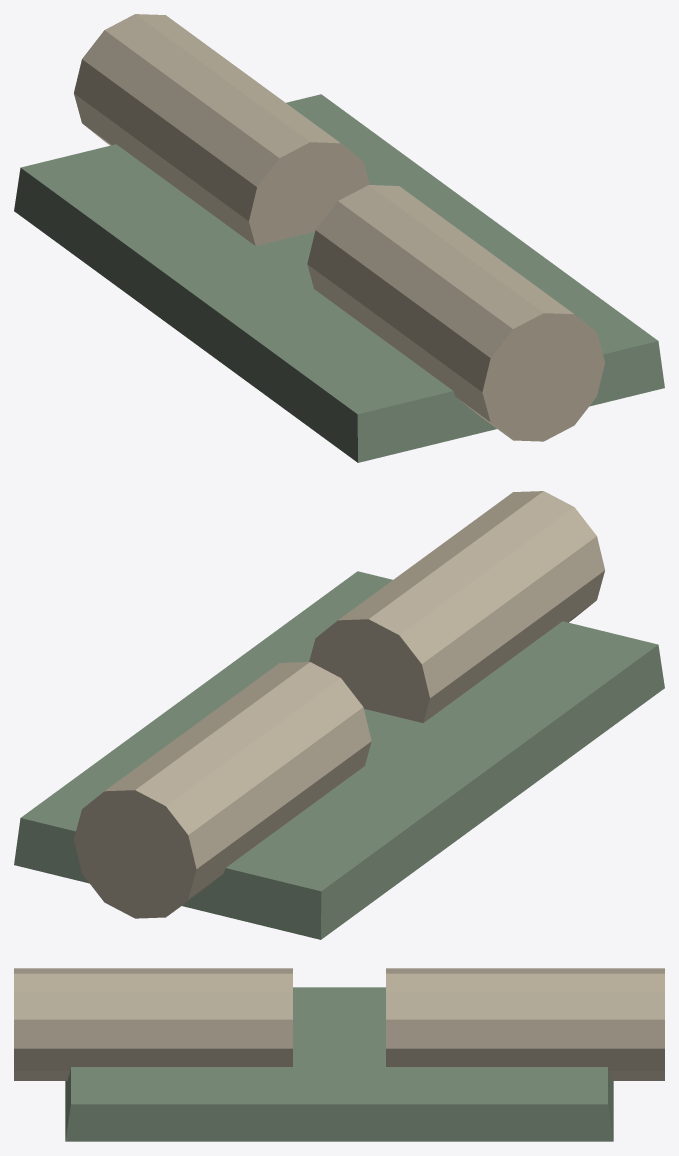
Rendered from bedroll_folded.glb.
3 views of the same model, one above another, from view 1: azimuth 30°, elevation 25°; view 2: azimuth 150°, elevation 25°; view 3: azimuth 270°, elevation 25° (orthographic). The views are drawn at different scales.
Visible parts, largest first — view 1: part_0, part_2, part_1; view 2: part_0, part_1, part_2; view 3: part_0, part_1, part_2.
Boxes of the visible parts, bbox=[...] form: part_0: bbox=[14, 94, 664, 462]; part_2: bbox=[307, 185, 604, 441]; part_1: bbox=[74, 14, 369, 245]; part_0: bbox=[14, 571, 664, 939]; part_1: bbox=[74, 662, 371, 918]; part_2: bbox=[309, 491, 604, 722]; part_0: bbox=[65, 987, 613, 1141]; part_1: bbox=[386, 968, 664, 1080]; part_2: bbox=[14, 968, 292, 1080].
Bounding box in the file's own units: 0.85 × 0.36 × 1.96.
